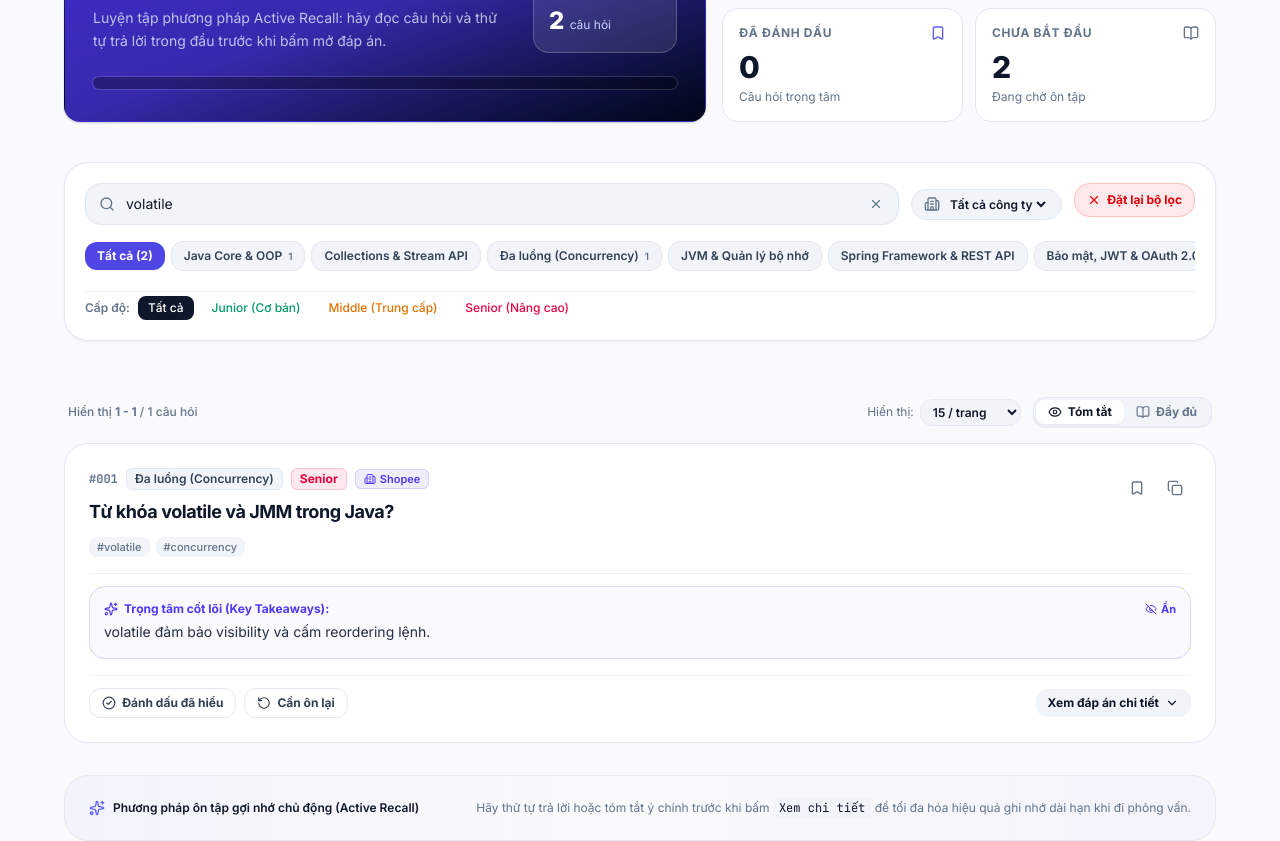
Test case: InterviewListView Component › toggles full answer expansion
The image size is (1280, 841).
(page scrolled)
Expected: the text "Xem đáp án chi tiết" is shown, [1048,695,1159,711]
Click the button "Xem đáp án chi tiết" at [1113, 703], box [1036,689,1191,717]
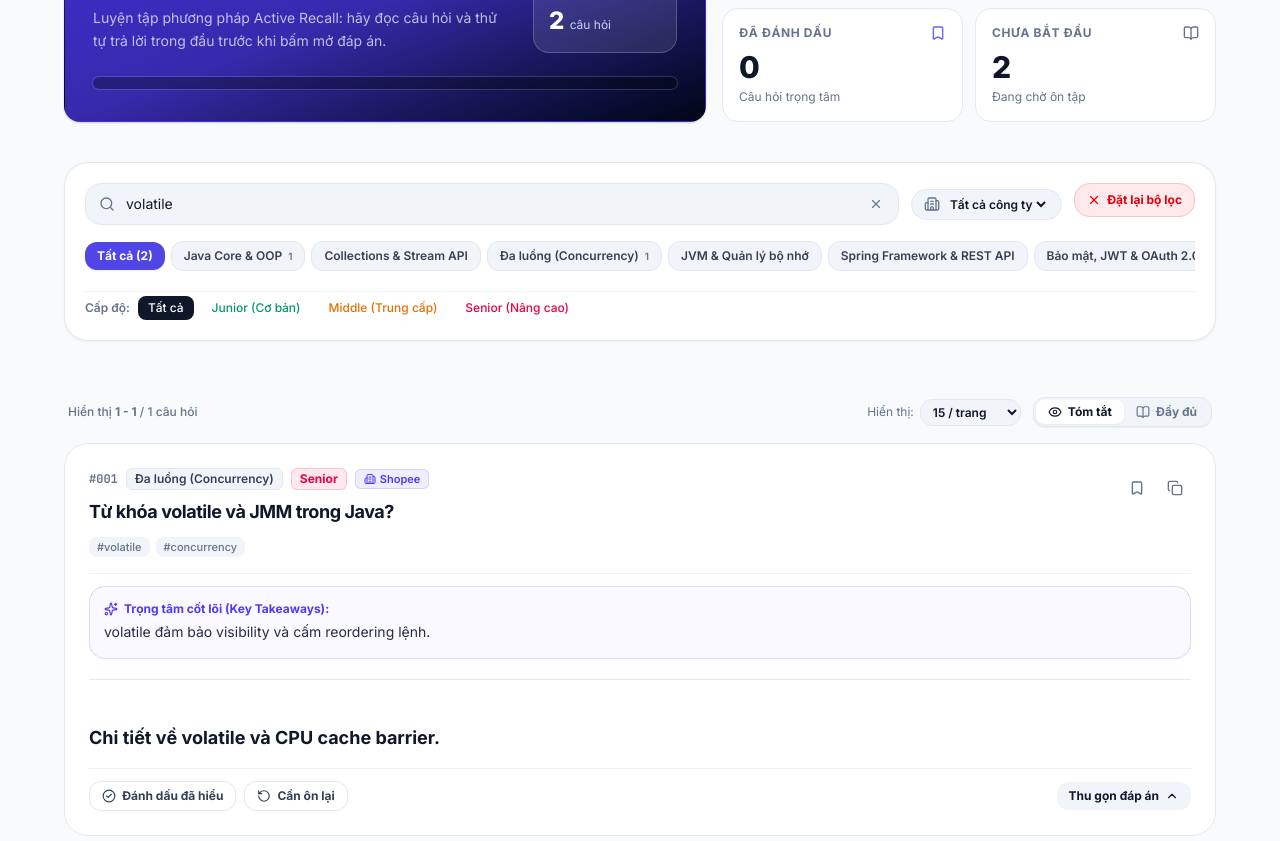
Now the text "Thu gọn đáp án" is shown, box [1069,788,1159,804]
